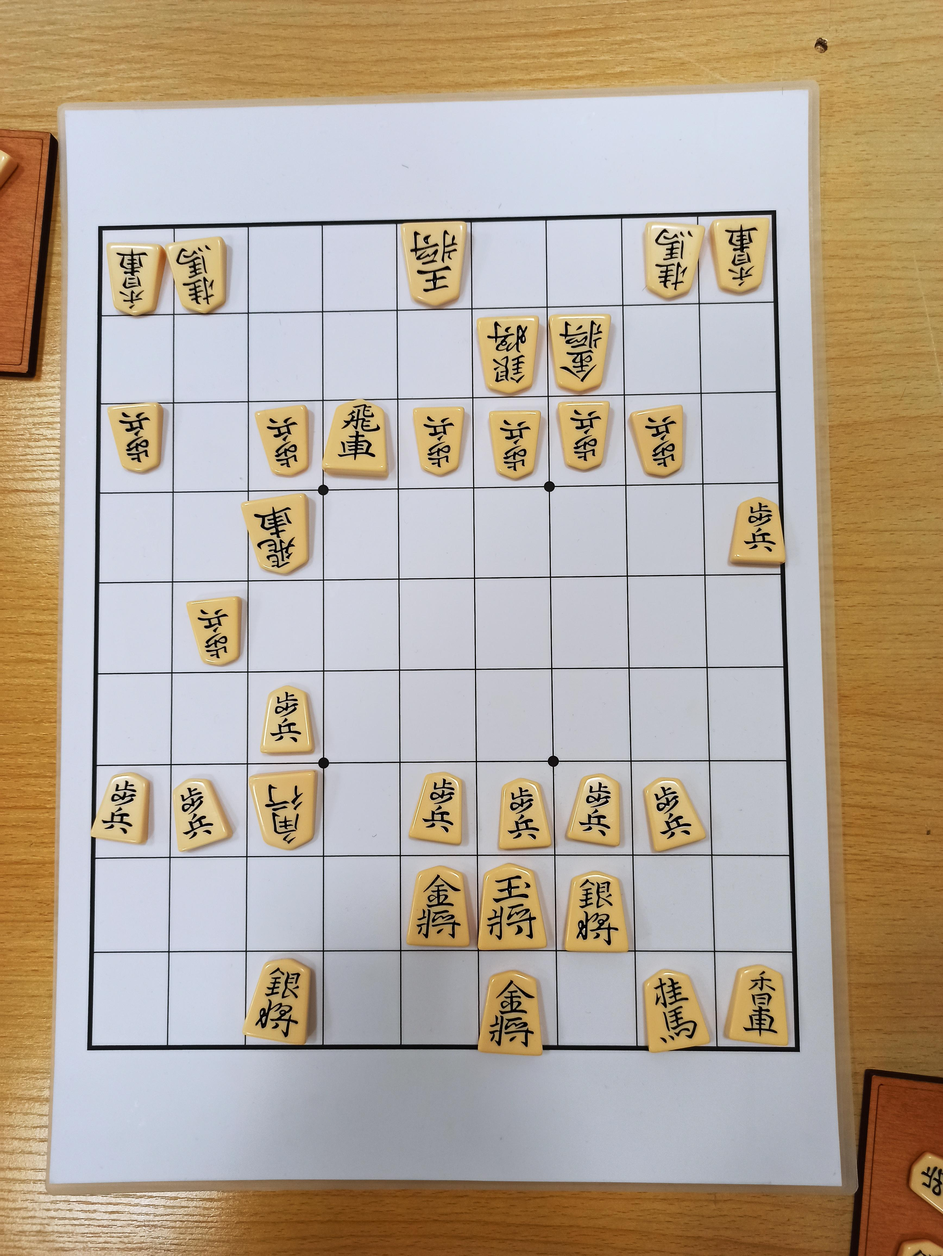board: (90, 214, 794, 1048)
